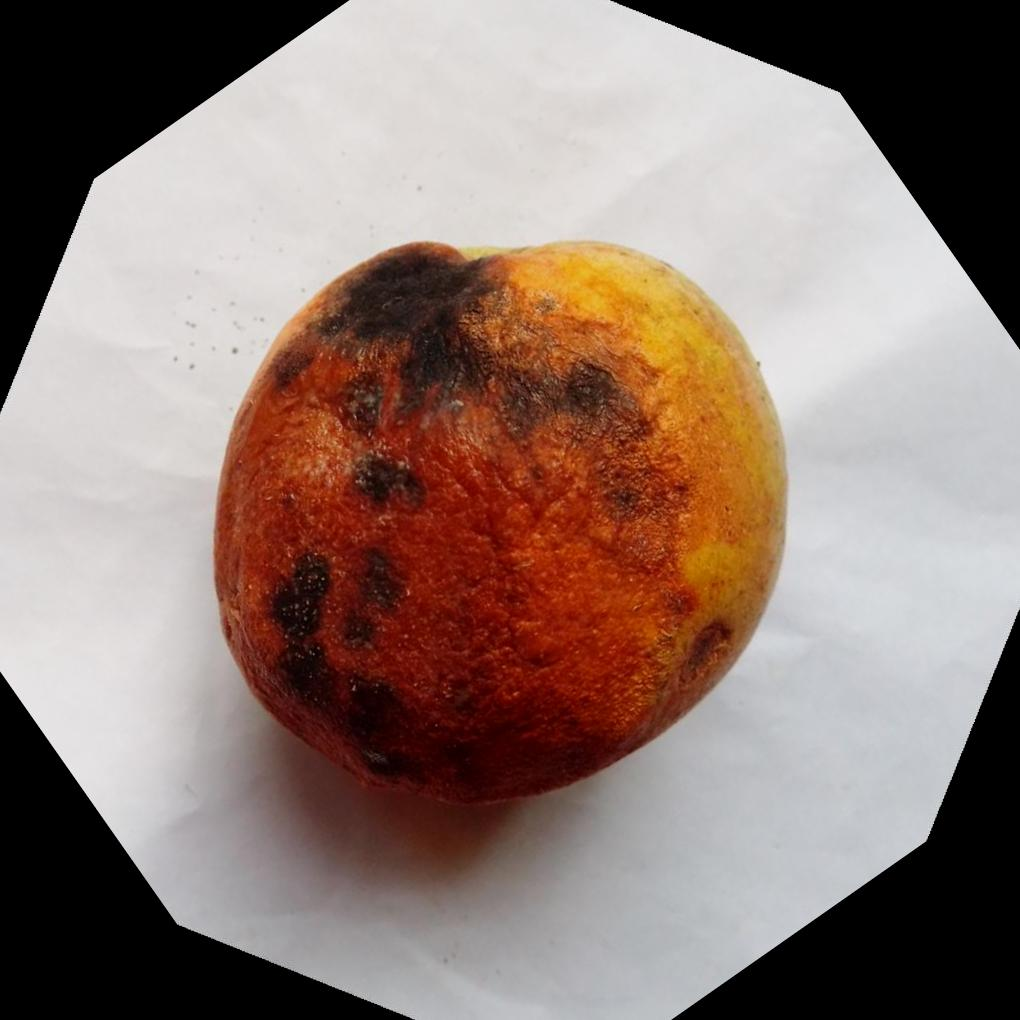FreshOrange: (211, 238, 794, 813)
